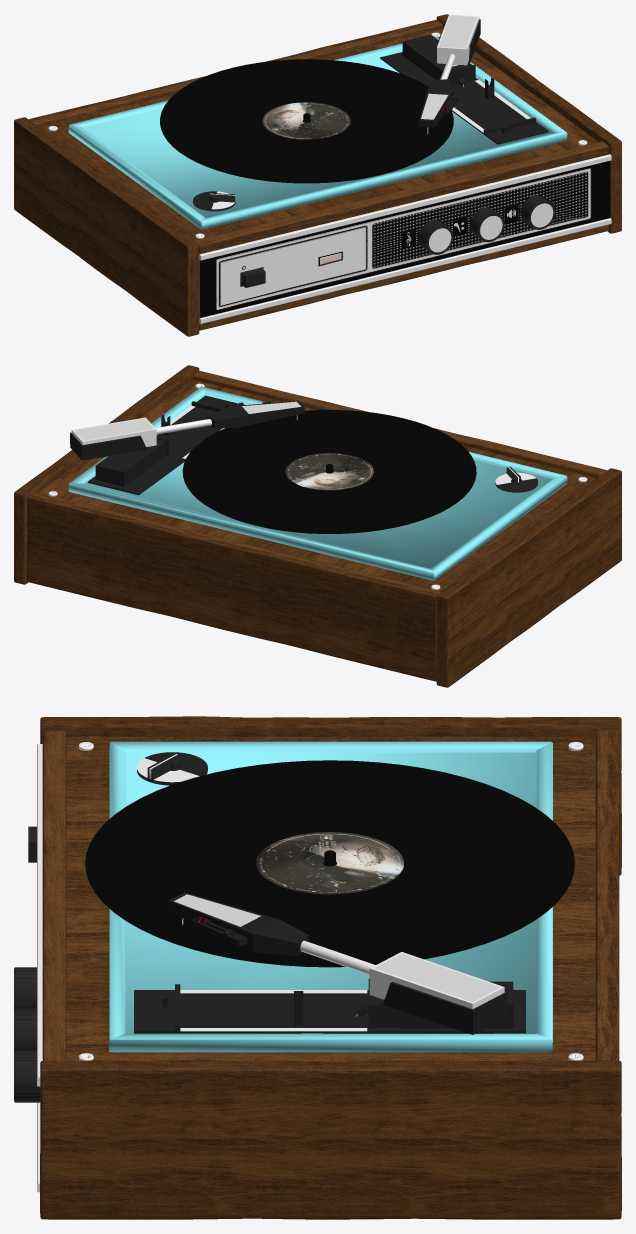
Rendered from record_player.glb.
3 views of the same model, one above another, from view 1: azimuth 30°, elevation 25°; view 2: azimuth 150°, elevation 25°; view 3: azimuth 270°, elevation 25° (orthographic). The views are drawn at different scales.
Parts seen in each view (by area): view 1: Cylinder.010, Cube, Plane.003, Plane.004, Plane.002, Plane.007, Cube.006, Plane.001, Cube.004, Cube.001, Cube.002, Cylinder.002 (+3 smaller); view 2: Plane.001, Cylinder.010, Plane.003, Plane.004, Plane.007, Plane.002, Cube.006, Cube.004, Cube.002, Cube.001, Cube.003, Cylinder.008; view 3: Plane.003, Cylinder.010, Plane.004, Plane.007, Cube.006, Plane.001, Plane.002, Cube.002, Cube.001, Cube.003, Cube, Cube.004 (+5 smaller).
Boxes of the visible parts, left/top/right/bottom form: Cylinder.010: left=160, top=59, right=453, bottom=183; Cube: left=199, top=154, right=611, bottom=324; Plane.003: left=14, top=14, right=621, bottom=336; Plane.004: left=68, top=35, right=567, bottom=229; Plane.002: left=195, top=141, right=608, bottom=330; Plane.007: left=39, top=28, right=598, bottom=240; Cube.006: left=380, top=52, right=548, bottom=144; Plane.001: left=29, top=20, right=442, bottom=126; Cube.004: left=402, top=34, right=475, bottom=85; Cube.001: left=437, top=14, right=479, bottom=65; Cube.002: left=419, top=79, right=458, bottom=127; Cylinder.002: left=469, top=207, right=504, bottom=242; Plane.001: left=27, top=492, right=440, bottom=681; Cylinder.010: left=182, top=410, right=476, bottom=533; Plane.003: left=14, top=365, right=621, bottom=687; Plane.004: left=68, top=386, right=567, bottom=580; Plane.007: left=37, top=379, right=596, bottom=591; Plane.002: left=193, top=371, right=606, bottom=478; Cube.006: left=88, top=395, right=239, bottom=495; Cube.004: left=95, top=437, right=168, bottom=486; Cube.002: left=207, top=401, right=304, bottom=428; Cube.001: left=71, top=417, right=156, bottom=446; Cube.003: left=70, top=432, right=146, bottom=460; Cylinder.008: left=495, top=467, right=537, bottom=492; Plane.003: left=40, top=716, right=621, bottom=1219; Cylinder.010: left=85, top=760, right=574, bottom=967; Plane.004: left=109, top=741, right=552, bottom=1052; Plane.007: left=66, top=736, right=595, bottom=1061; Cube.006: left=134, top=984, right=525, bottom=1033; Plane.001: left=595, top=730, right=619, bottom=1060; Plane.002: left=42, top=730, right=66, bottom=1060; Cube.002: left=168, top=892, right=308, bottom=955; Cube.001: left=369, top=952, right=504, bottom=1009; Cube.003: left=383, top=982, right=507, bottom=1034; Cube: left=37, top=744, right=42, bottom=1192; Cube.004: left=357, top=978, right=513, bottom=1028.
Size of the model in its own units: 0.5295 by 0.1439 by 0.3847.
Materials: 23 (8 with a texture image).
